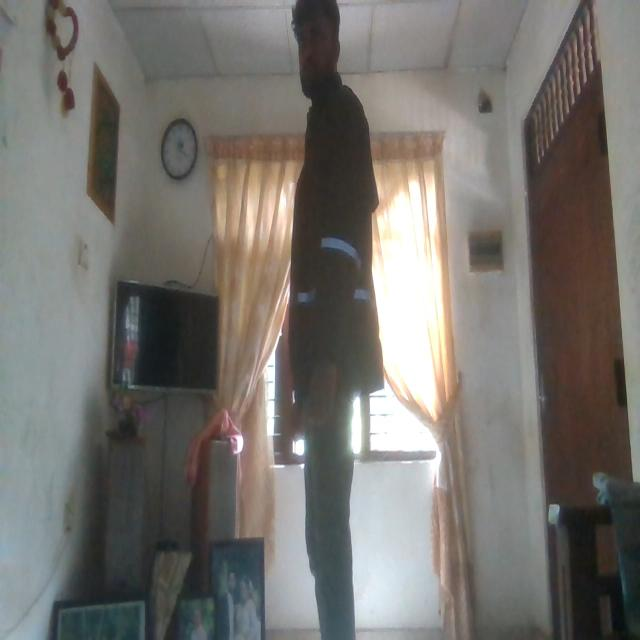Jacket_Wearer: (278, 84, 385, 420)
Person: (262, 0, 396, 640)
